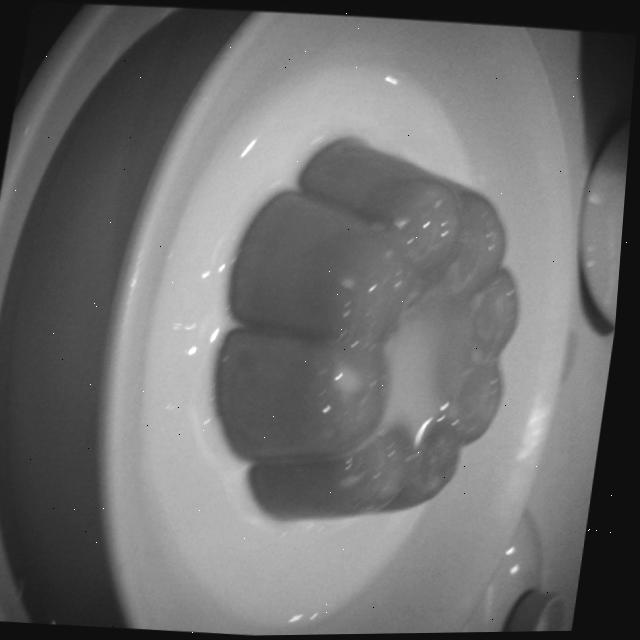蛋糕甜品: (66, 21, 595, 639)
